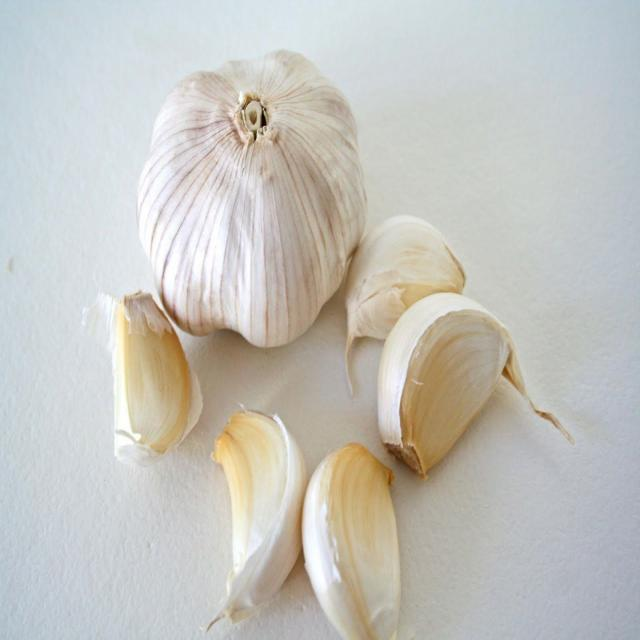garlic: (138, 44, 357, 338), (374, 293, 512, 476), (302, 437, 394, 634), (218, 407, 299, 607), (101, 299, 189, 464)
